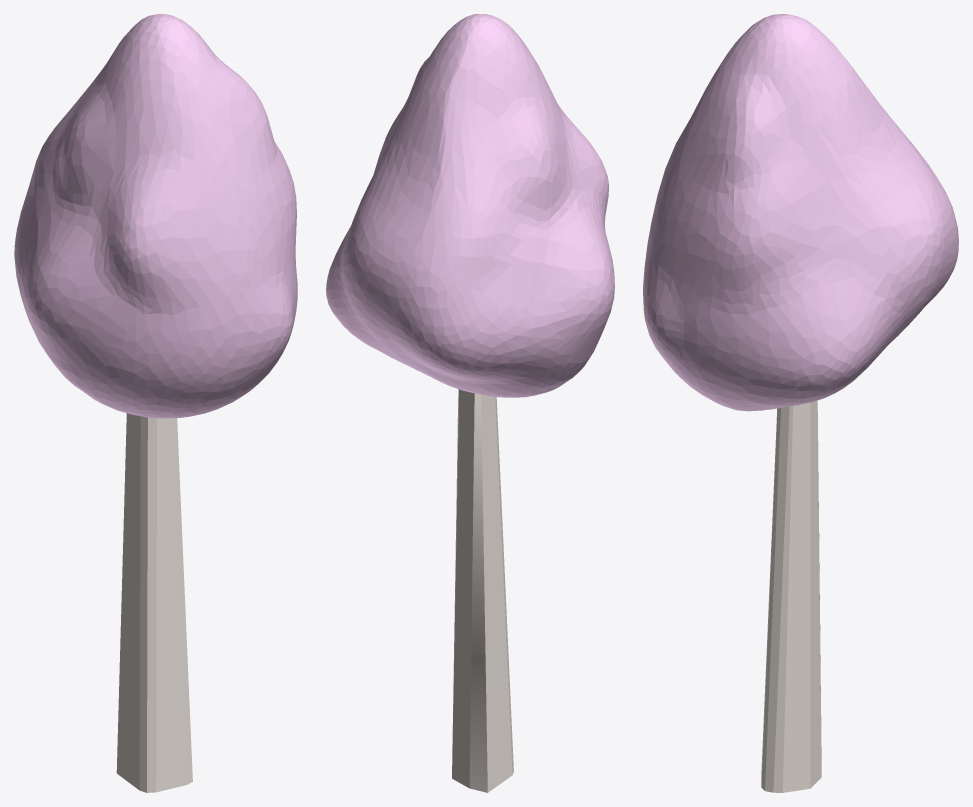
Rendered from tree4.gltf.
3 renders of one model, left to right at view 1: azimuth 30°, elevation 25°; view 2: azimuth 150°, elevation 25°; view 3: azimuth 270°, elevation 25°, orthographic.
Parts seen in each view (by area): view 1: Icosphere, Cube; view 2: Icosphere, Cube; view 3: Icosphere, Cube.
Boxes of the visible parts, x1,y1,x2,y2 form: Icosphere: (14, 14, 297, 418); Cube: (116, 413, 192, 792); Icosphere: (326, 14, 614, 397); Cube: (452, 389, 513, 792); Icosphere: (643, 14, 958, 411); Cube: (761, 400, 821, 792).
Bounding box in the file's own units: 5.06 × 14.26 × 5.33.
